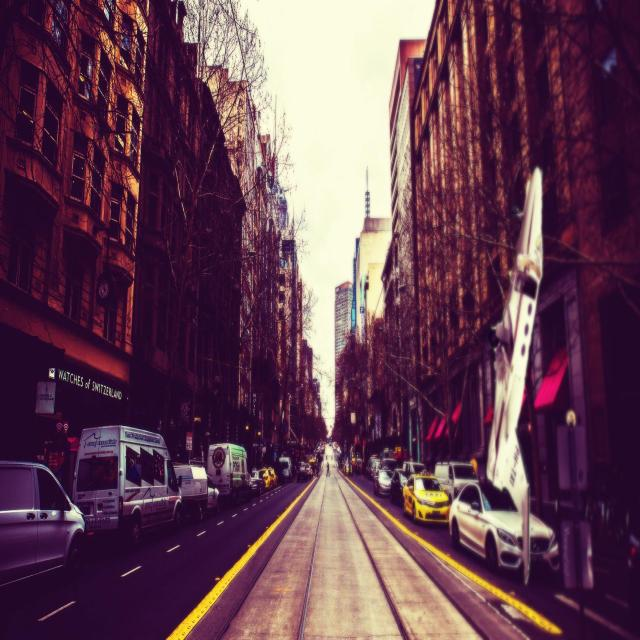airplane: (486, 163, 544, 582)
